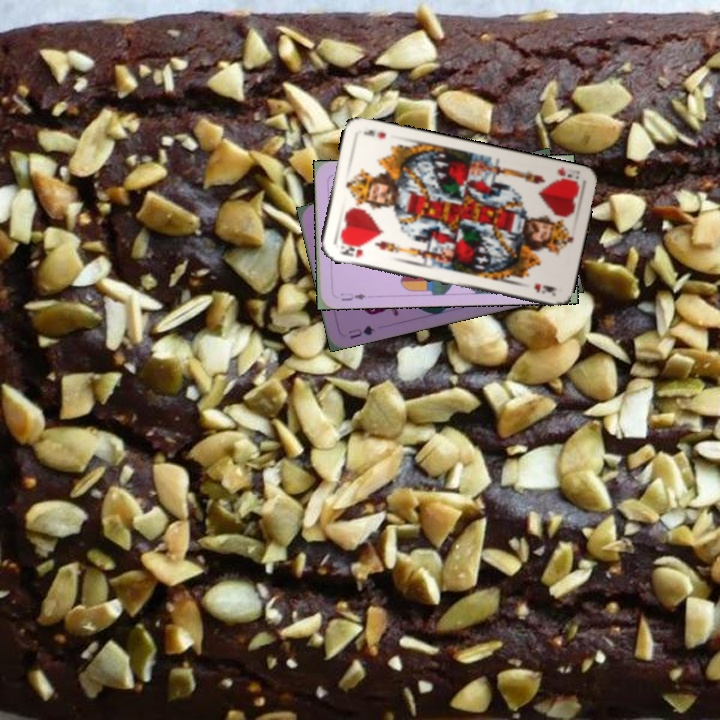EU: (337, 289, 368, 304)
GU: (345, 321, 378, 342)
HK: (337, 239, 365, 260), (553, 164, 582, 182)
